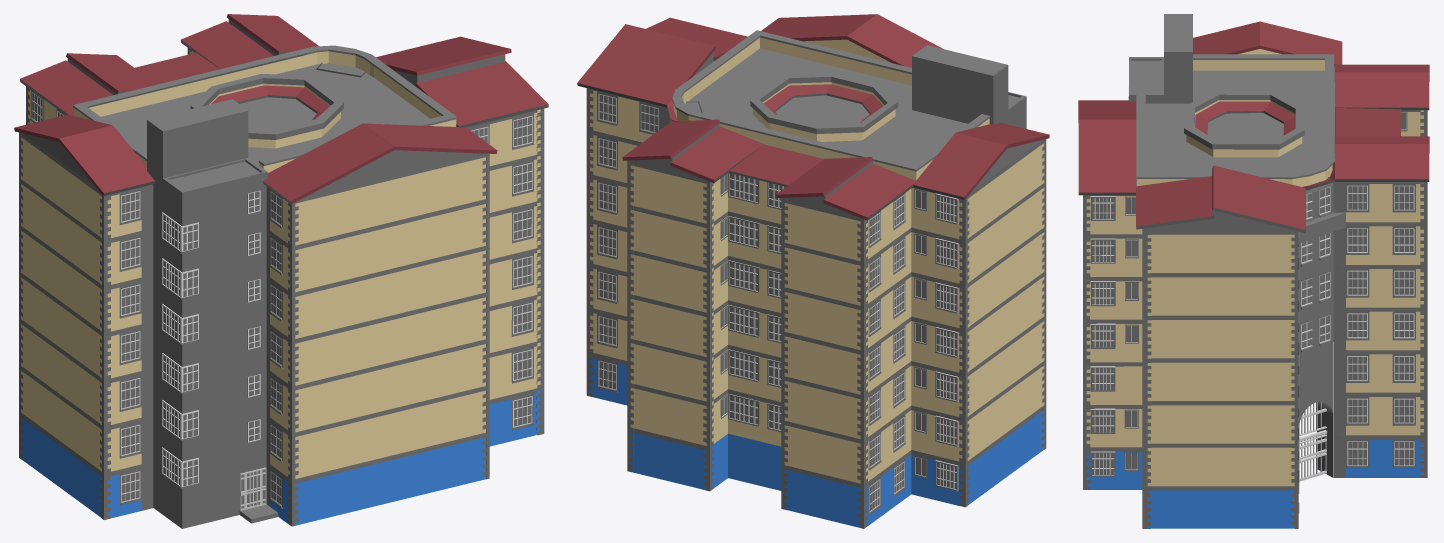
The model's file is Edificio.fbx.
3 renders of one model, left to right at view 1: azimuth 30°, elevation 25°; view 2: azimuth 150°, elevation 25°; view 3: azimuth 270°, elevation 25°, orthographic. The views are drawn at different scales.
Visible parts, largest first — view 1: Ventana_edificio.045, Ventana_edificio.019, Ventana_edificio.024, Ventana_edificio.042, Ventana_edificio.041, Ventana_edificio.047, Cube.080, Cube.103, Cube.112, Cube.111, Ventana_edificio.040, Cube.102 (+24 smaller); view 2: Borde_asimetrico.004, Ventana_edificio.058, Ventana_edificio.024, Ventana_edificio.039, Ventana_edificio.019, Ventana_edificio.038, Ventana_edificio.067, Cube.102, Cube.080, Ventana_edificio.070, Cube.110, Ventana_edificio.026 (+28 smaller); view 3: Ventana_edificio.067, Ventana_edificio.012, Ventana_edificio.042, Ventana_edificio.019, Cube.095, Cube.113, Cube.102, Cube.106, Cube.108, Cube.103, Cube.079, Cube.080 (+15 smaller).
Boxes of the visible parts, x1=… form: Ventana_edificio.045: x1=288, y1=153, x2=489, y2=526; Ventana_edificio.019: x1=101, y1=63, x2=429, y2=528; Ventana_edificio.024: x1=23, y1=134, x2=100, y2=516; Ventana_edificio.042: x1=466, y1=110, x2=537, y2=446; Ventana_edificio.041: x1=110, y1=184, x2=153, y2=518; Ventana_edificio.047: x1=266, y1=187, x2=287, y2=523; Cube.080: x1=73, y1=45, x2=455, y2=118; Cube.103: x1=415, y1=61, x2=548, y2=127; Cube.112: x1=262, y1=123, x2=395, y2=204; Cube.111: x1=59, y1=125, x2=155, y2=196; Ventana_edificio.040: x1=100, y1=192, x2=110, y2=519; Cube.102: x1=376, y1=36, x2=511, y2=75; Borde_asimetrico.004: x1=781, y1=197, x2=867, y2=528; Ventana_edificio.058: x1=633, y1=161, x2=709, y2=491; Ventana_edificio.024: x1=969, y1=140, x2=1042, y2=503; Ventana_edificio.039: x1=867, y1=187, x2=959, y2=525; Ventana_edificio.019: x1=685, y1=45, x2=1026, y2=163; Ventana_edificio.038: x1=728, y1=172, x2=785, y2=490; Ventana_edificio.067: x1=586, y1=88, x2=670, y2=405; Cube.102: x1=577, y1=24, x2=715, y2=107; Cube.080: x1=672, y1=31, x2=920, y2=180; Ventana_edificio.070: x1=713, y1=173, x2=728, y2=488; Cube.110: x1=913, y1=132, x2=1007, y2=199; Ventana_edificio.026: x1=959, y1=195, x2=969, y2=507; Ventana_edificio.067: x1=1142, y1=228, x2=1299, y2=528; Ventana_edificio.012: x1=1334, y1=180, x2=1420, y2=477; Ventana_edificio.042: x1=1090, y1=195, x2=1151, y2=528; Ventana_edificio.019: x1=1129, y1=14, x2=1334, y2=186; Cube.095: x1=1298, y1=177, x2=1333, y2=482; Cube.113: x1=1078, y1=119, x2=1136, y2=195; Cube.102: x1=1212, y1=165, x2=1305, y2=232; Cube.106: x1=1335, y1=144, x2=1429, y2=181; Cube.108: x1=1335, y1=72, x2=1429, y2=110; Cube.103: x1=1136, y1=176, x2=1215, y2=229; Cube.079: x1=1184, y1=91, x2=1304, y2=149; Cube.080: x1=1139, y1=54, x2=1334, y2=186.
Size of the model in its own units: 9024 by 11551 by 9936.
